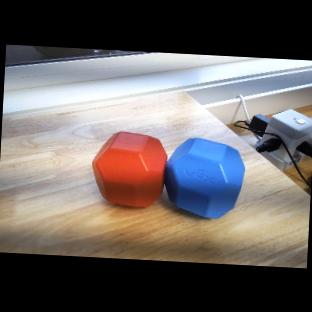V5_BLUE: (165, 132, 245, 219)
V5_RED: (89, 129, 167, 210)
pieces: (85, 124, 249, 224)
